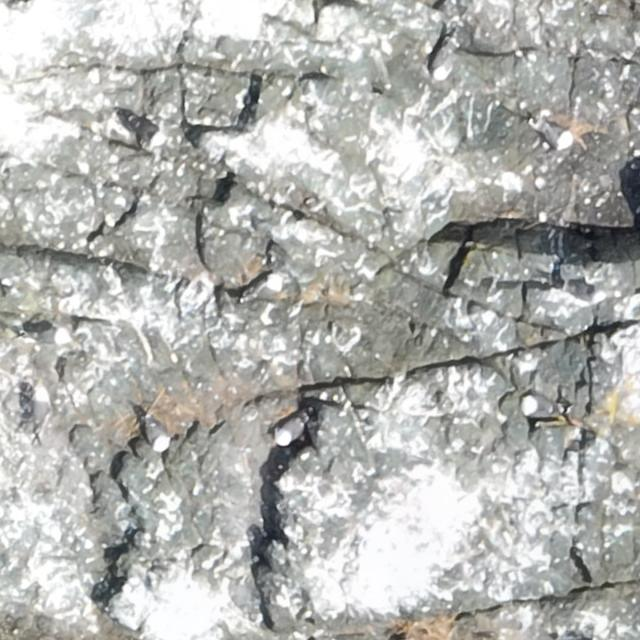umineko: (126, 112, 169, 150), (242, 274, 284, 306), (434, 36, 459, 82), (276, 416, 305, 442), (538, 123, 571, 144), (147, 420, 170, 450), (32, 328, 75, 343), (524, 398, 558, 416), (32, 391, 46, 426)
